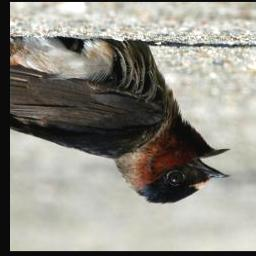Swallow: (11, 34, 234, 205)
